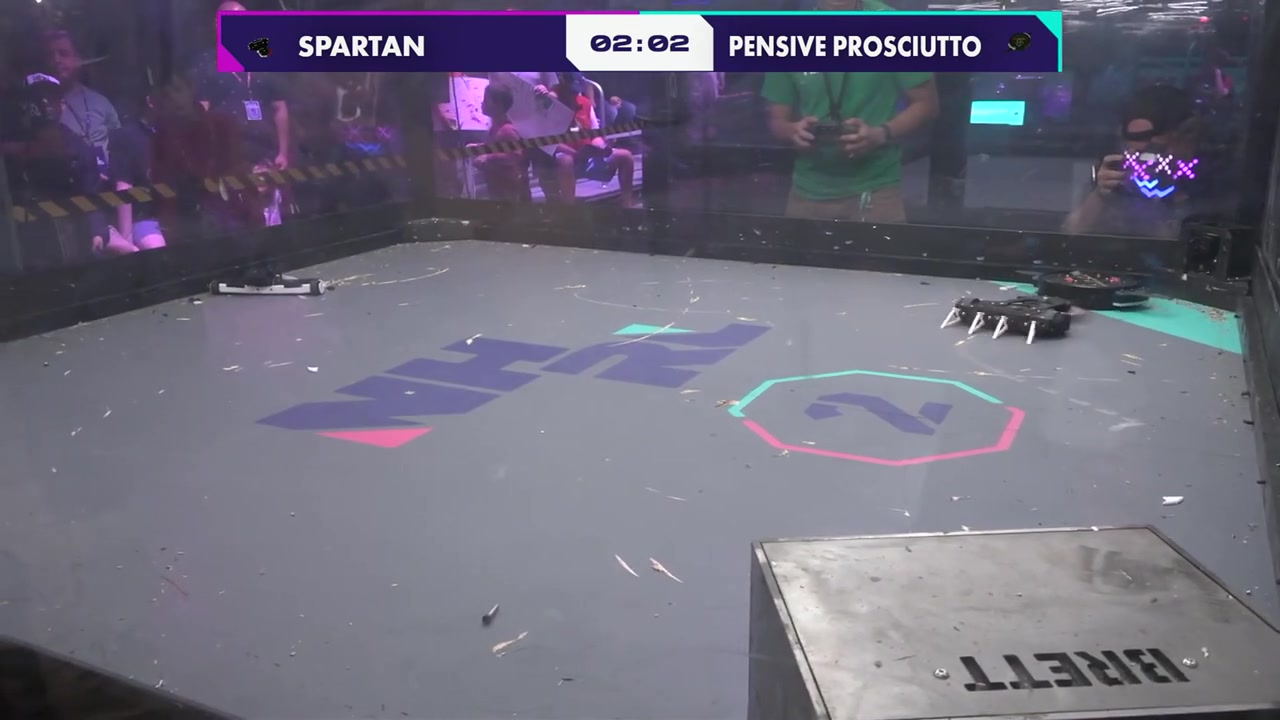combatbot: (937, 293, 1079, 346), (1031, 270, 1151, 308), (212, 267, 328, 302)
housebot: (752, 523, 1280, 720)
